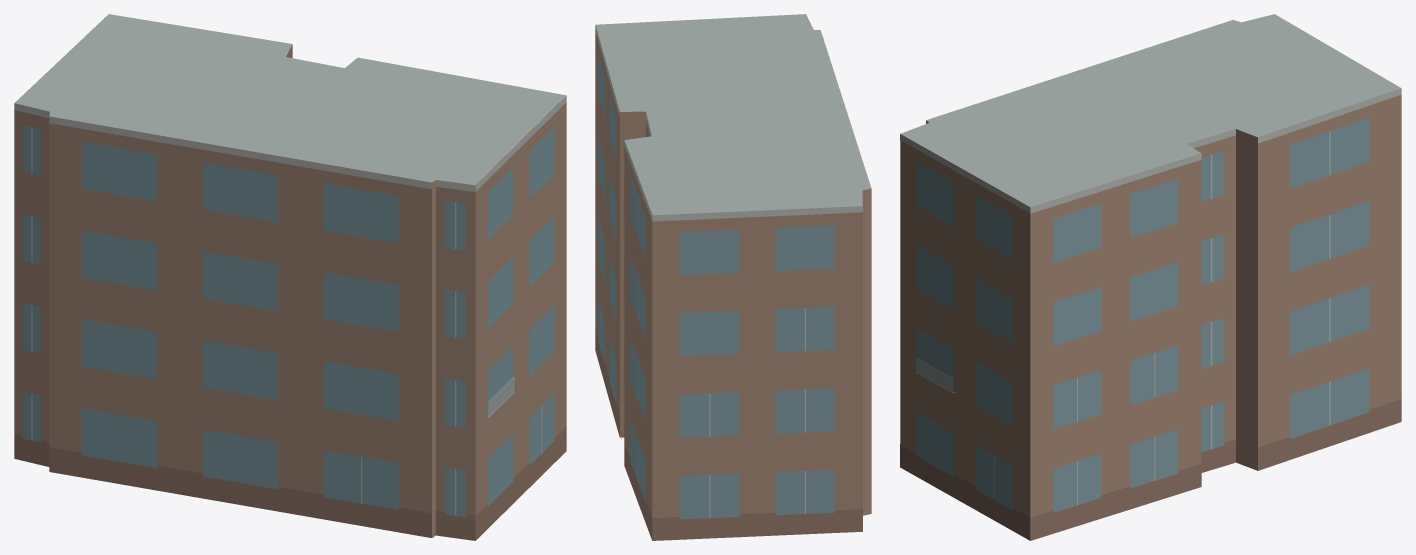
File: survey-upis-32913894.glb
3 views of the same model, side by side, from view 1: azimuth 30°, elevation 25°; view 2: azimuth 150°, elevation 25°; view 3: azimuth 270°, elevation 25° (orthographic). The views are drawn at different scales.
Parts seen in each view (by area): view 1: survey-upis-32913894.tmp; view 2: survey-upis-32913894.tmp; view 3: survey-upis-32913894.tmp.
Part boxes in pixels (bbox=[...]): survey-upis-32913894.tmp: bbox=[14, 14, 566, 540]; survey-upis-32913894.tmp: bbox=[595, 14, 871, 540]; survey-upis-32913894.tmp: bbox=[900, 14, 1401, 540].
Size of the model in its own units: 15.92 by 12.8 by 17.45.
